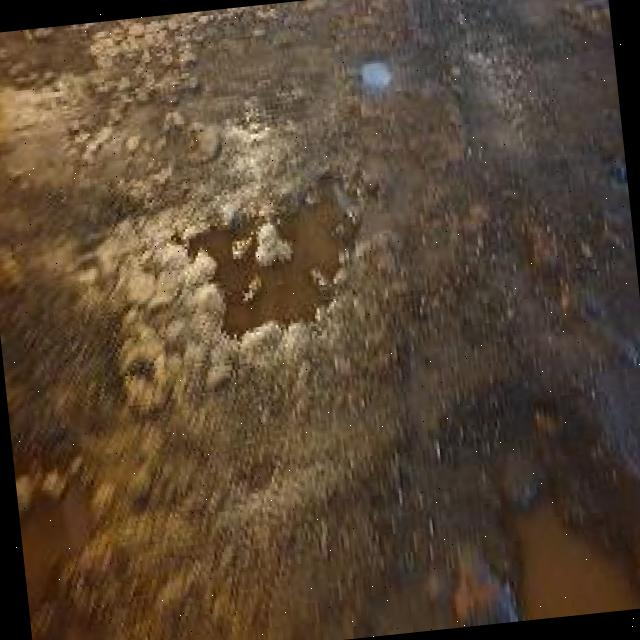waterlogging: (191, 178, 365, 336)
